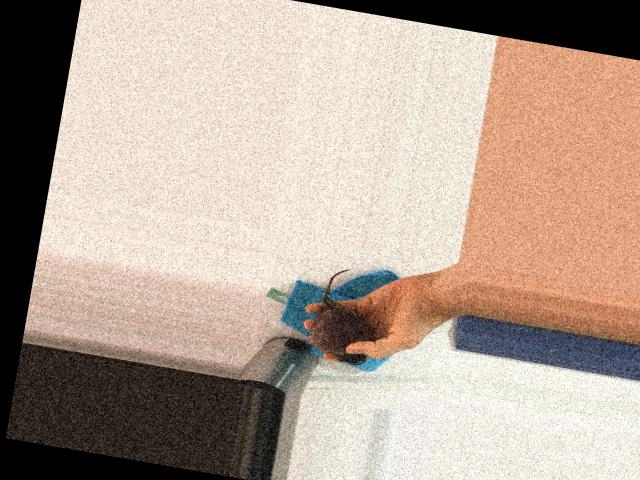beet: (305, 263, 386, 367)
